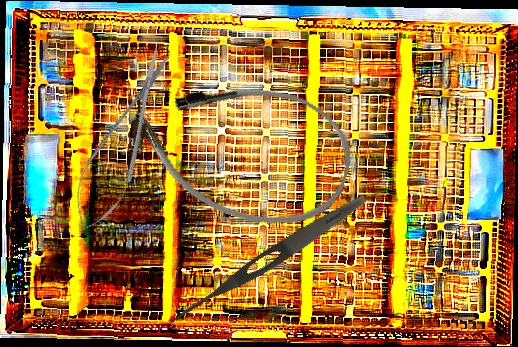Cannula: (114, 54, 365, 243)
Dressing Forceps: (165, 189, 371, 332)
Micro Scissor: (60, 41, 186, 240)
